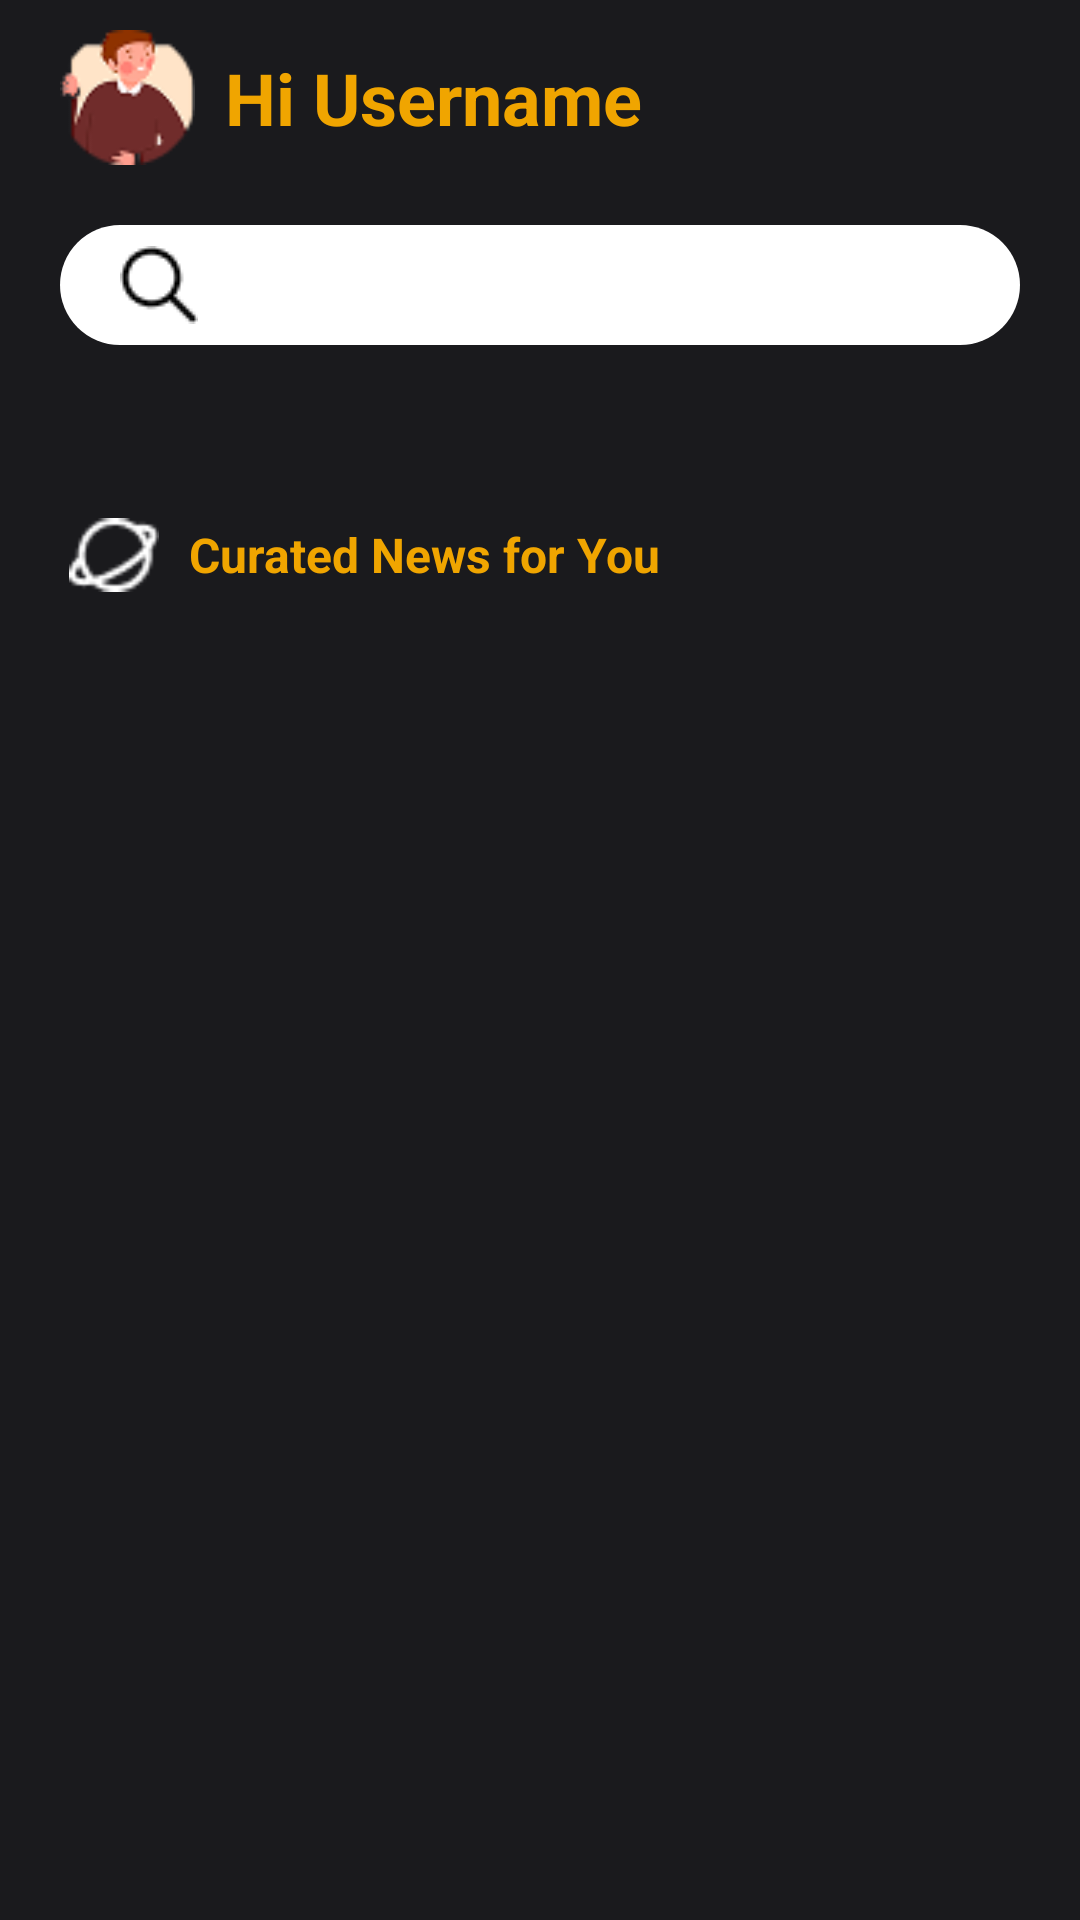

Icons on this 1080w x 1920h Android screen, each with its box as (x1, y1, x2, y2):
world: (69, 518, 159, 592)
